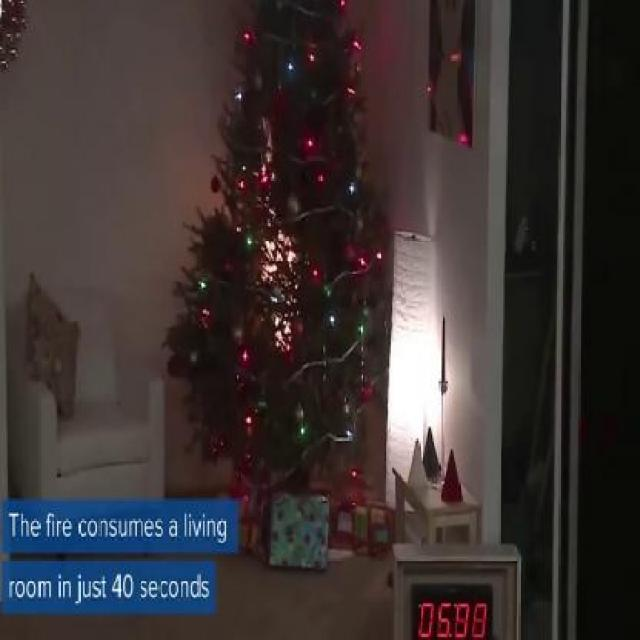fire: (246, 210, 306, 364)
